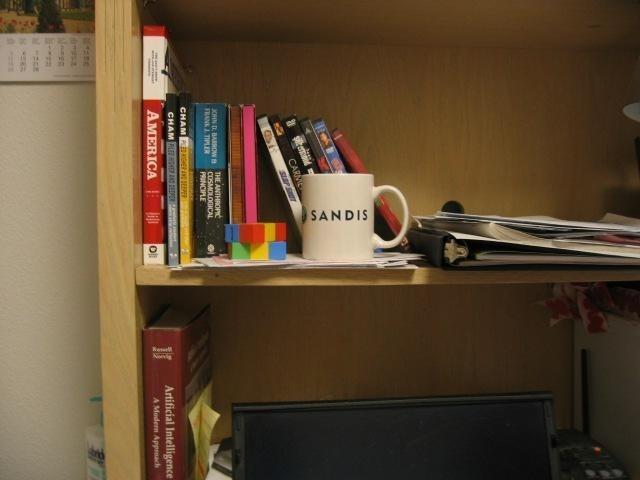cup-handle: (302, 173, 408, 263)
